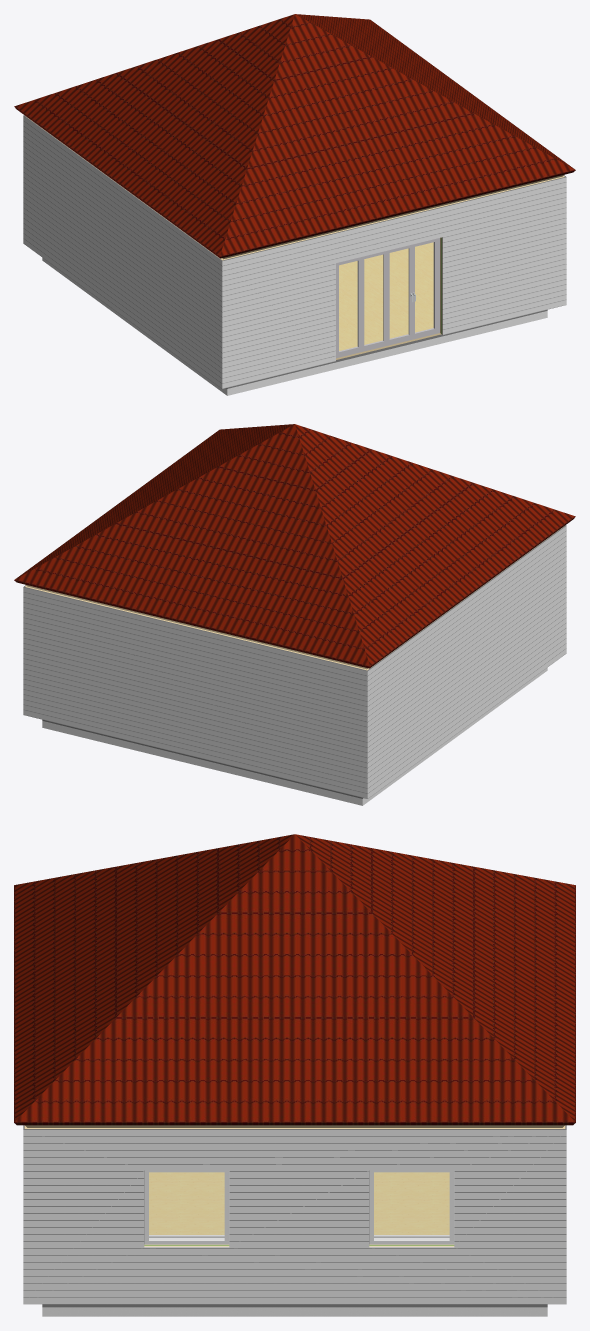
Rendered from Architectural model.glb.
3 views of the same model, one above another, from view 1: azimuth 30°, elevation 25°; view 2: azimuth 150°, elevation 25°; view 3: azimuth 270°, elevation 25° (orthographic). The views are drawn at different scales.
Parts seen in each view (by area): view 1: VertexModel; view 2: VertexModel; view 3: VertexModel.
Part boxes in pixels (x1,y1,x2,y2): VertexModel: [14, 14, 575, 395]; VertexModel: [14, 424, 575, 805]; VertexModel: [14, 834, 575, 1316].
Size of the model in its own units: 8.02 by 5.92 by 8.02.
26 materials, 5 textured.
